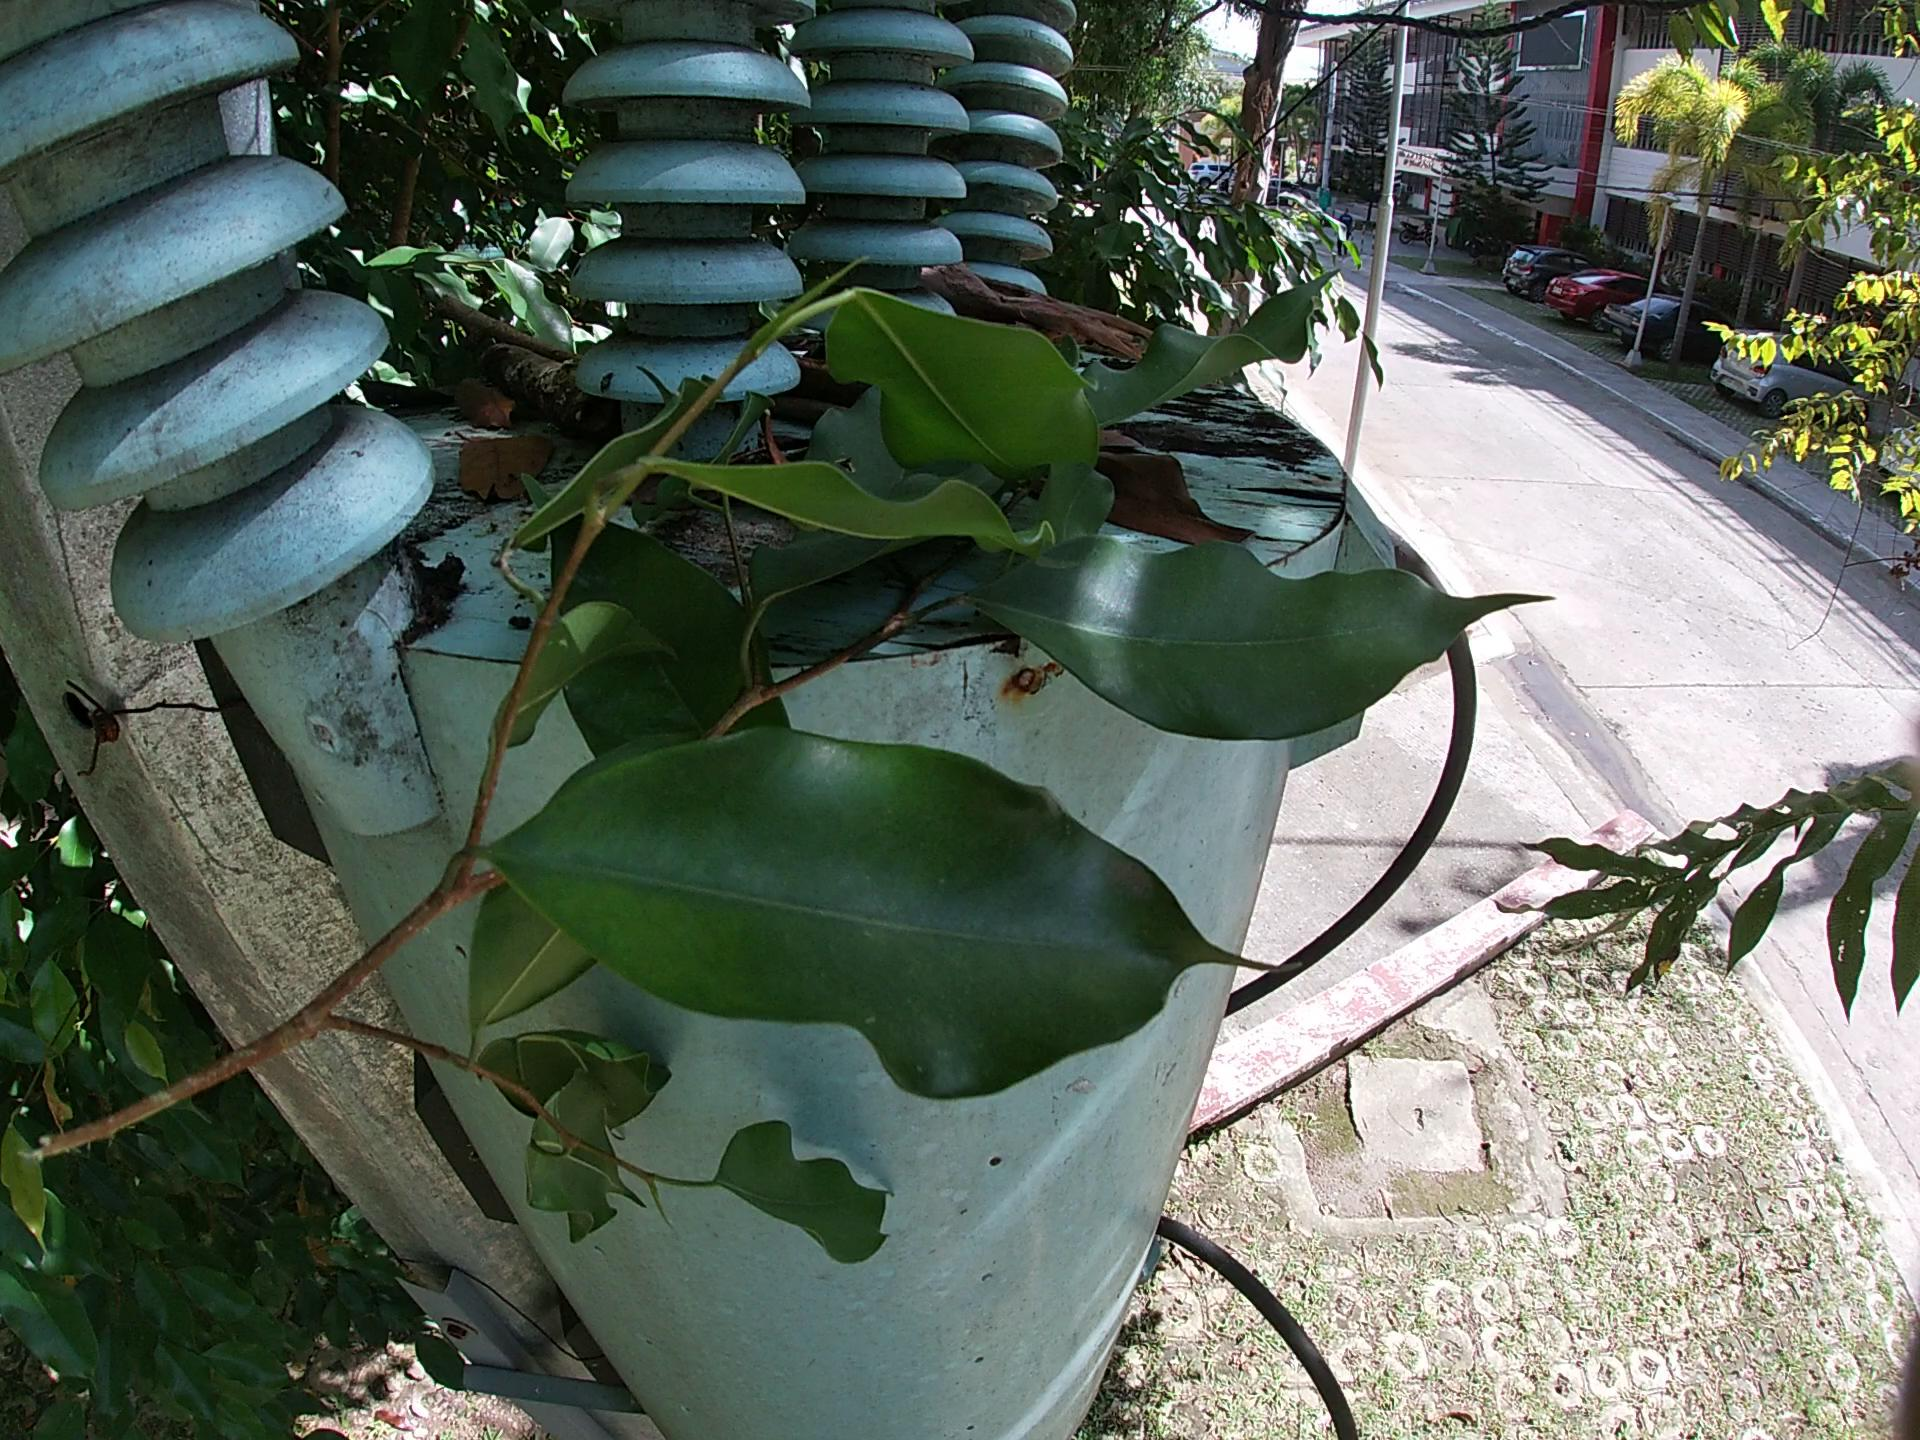branch with leaves: (20, 248, 1559, 1271)
leaf: (1098, 443, 1264, 552), (447, 424, 558, 523), (438, 368, 525, 430)
tree branch: (924, 260, 1161, 371), (469, 337, 627, 430), (425, 290, 581, 363)
